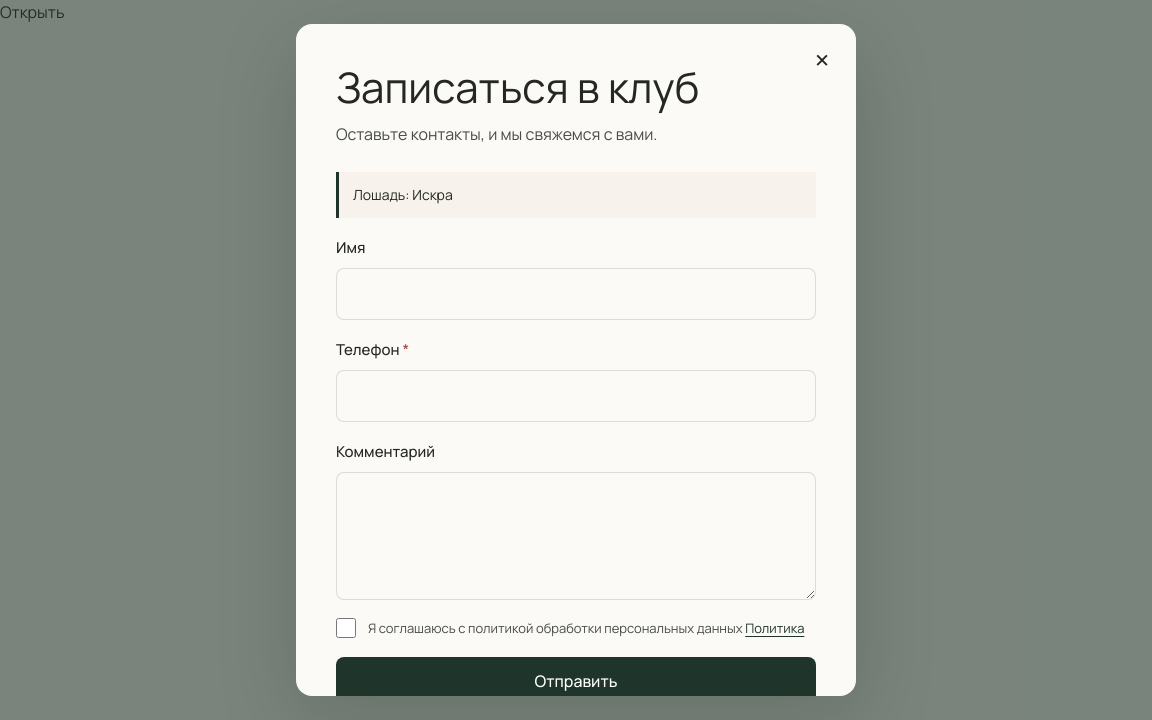
CT-CB-02..08/CT-NOTE-CB-01 CallbackModal › captures the browser tel DOM value before the pending error rerender
Type "Анна" into the field labelled "Имя" at x=576, y=294, box [336,268,816,320]
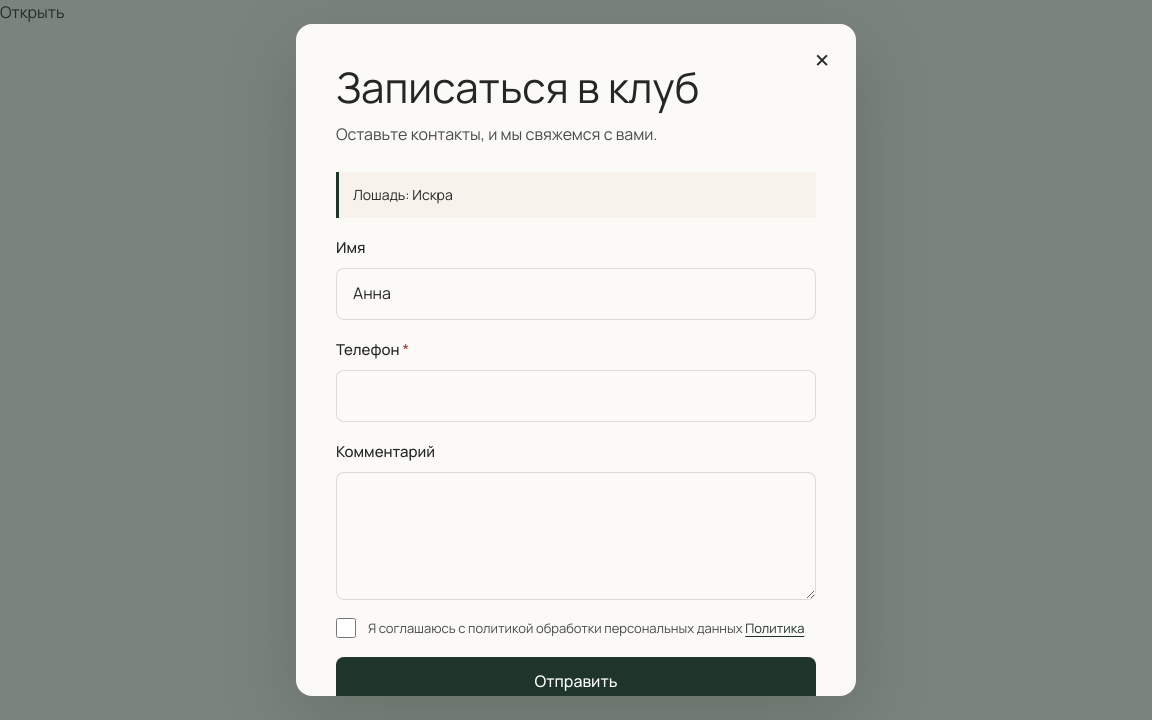
Type "+79991234567" into the field labelled "Телефон *" at x=576, y=396, box [336,370,816,422]
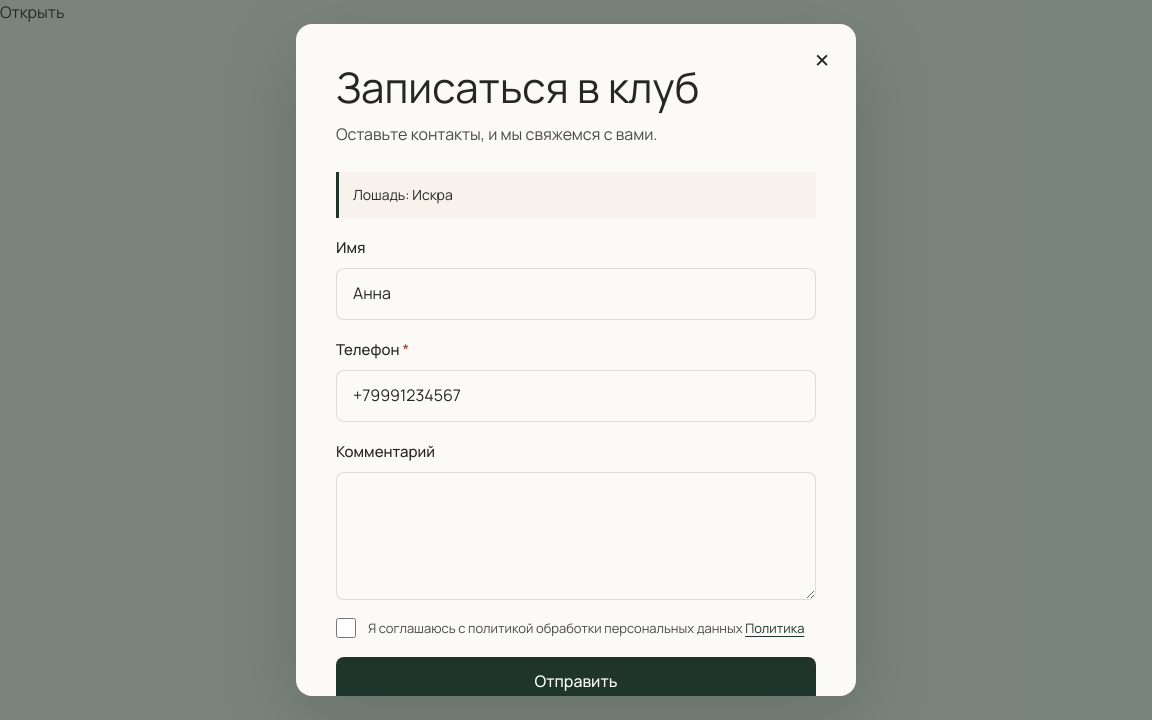
Type "Позвоните вечером" into the text box labelled "Комментарий" at x=576, y=536, box [336,472,816,600]
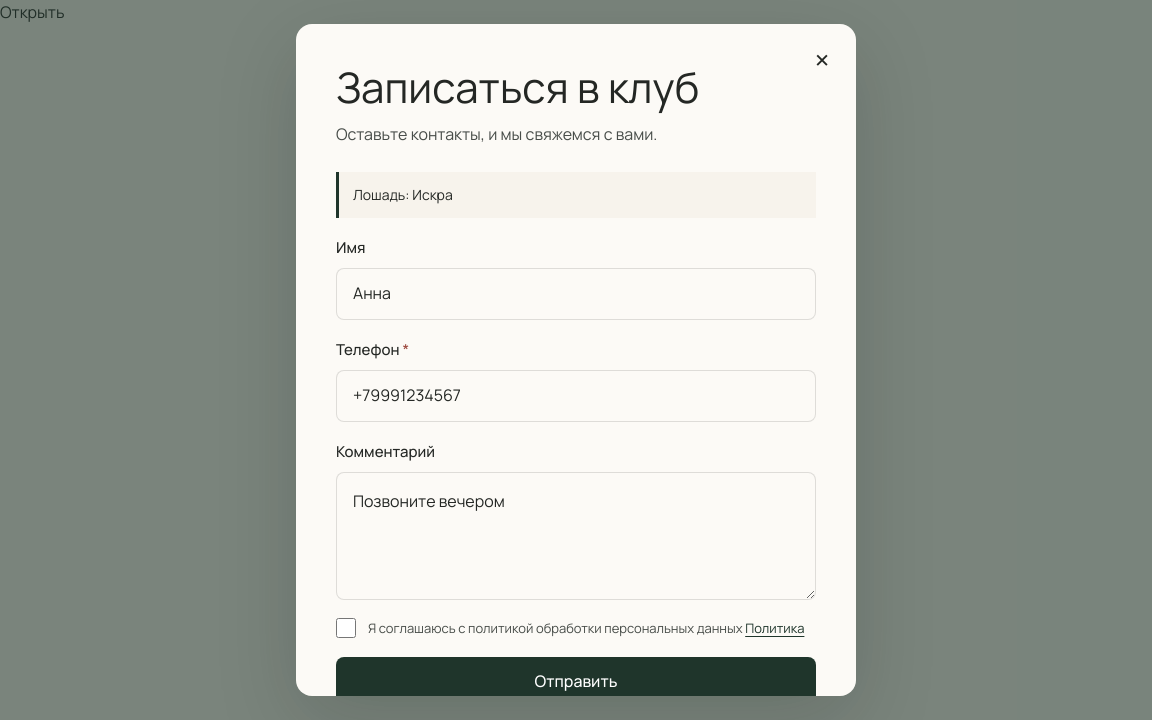
Click the checkbox at x=346, y=628, box [336,618,356,638]
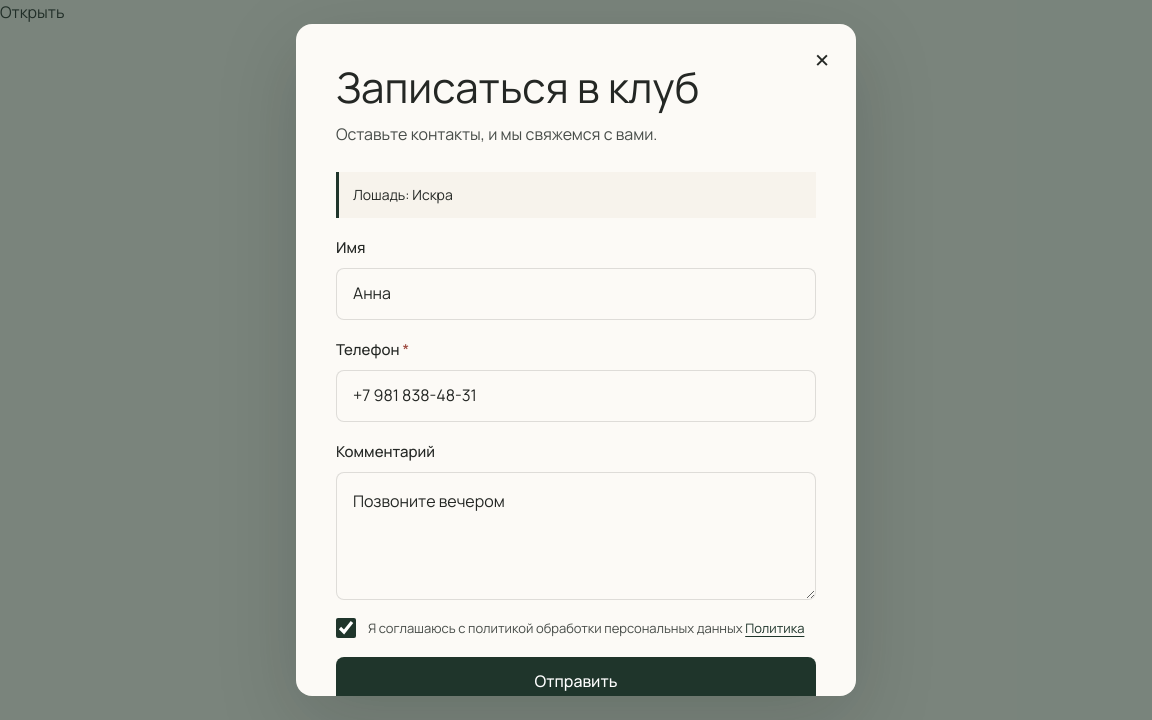
expect the field labelled "Телефон *" holds "+7 981 838-48-31": met, box [336,370,816,422]
Submit the form labelled "Телефон", box [336,172,816,705]
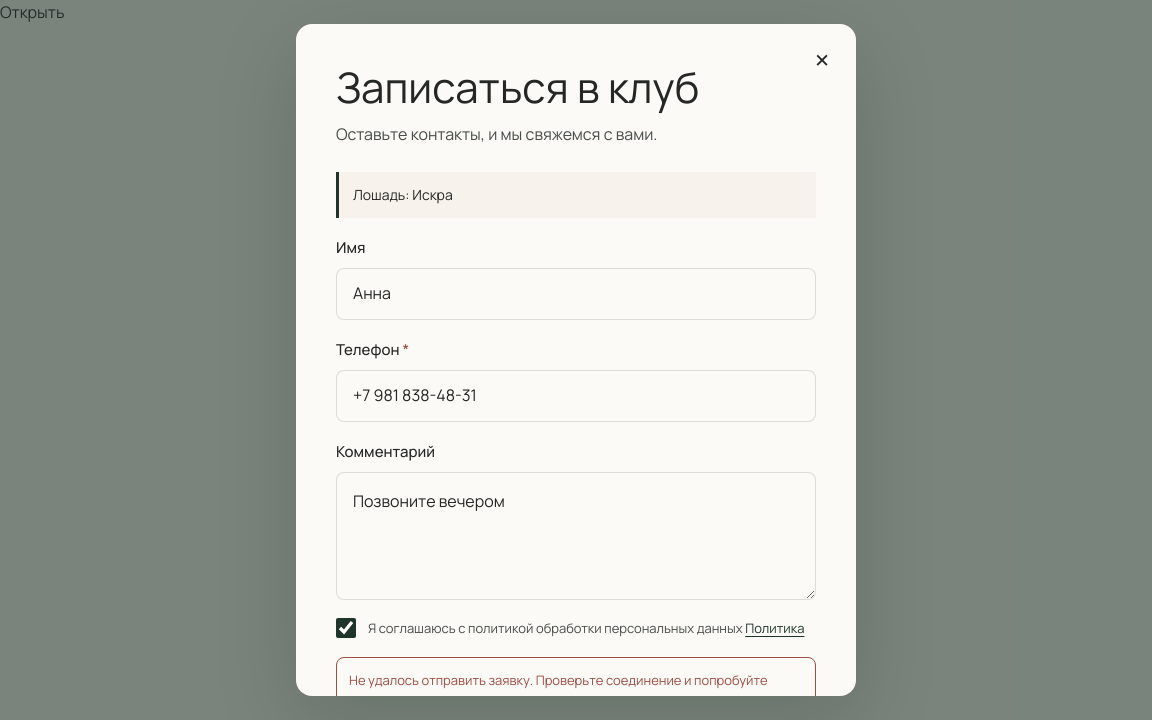
expect the field labelled "Телефон *" holds "+7 981 838-48-31": met, box [336,370,816,422]
expect the text "Не удалось отправить заявку. Проверьте соединение и попробуйте снова." is shown: met, box [349,671,768,696]
